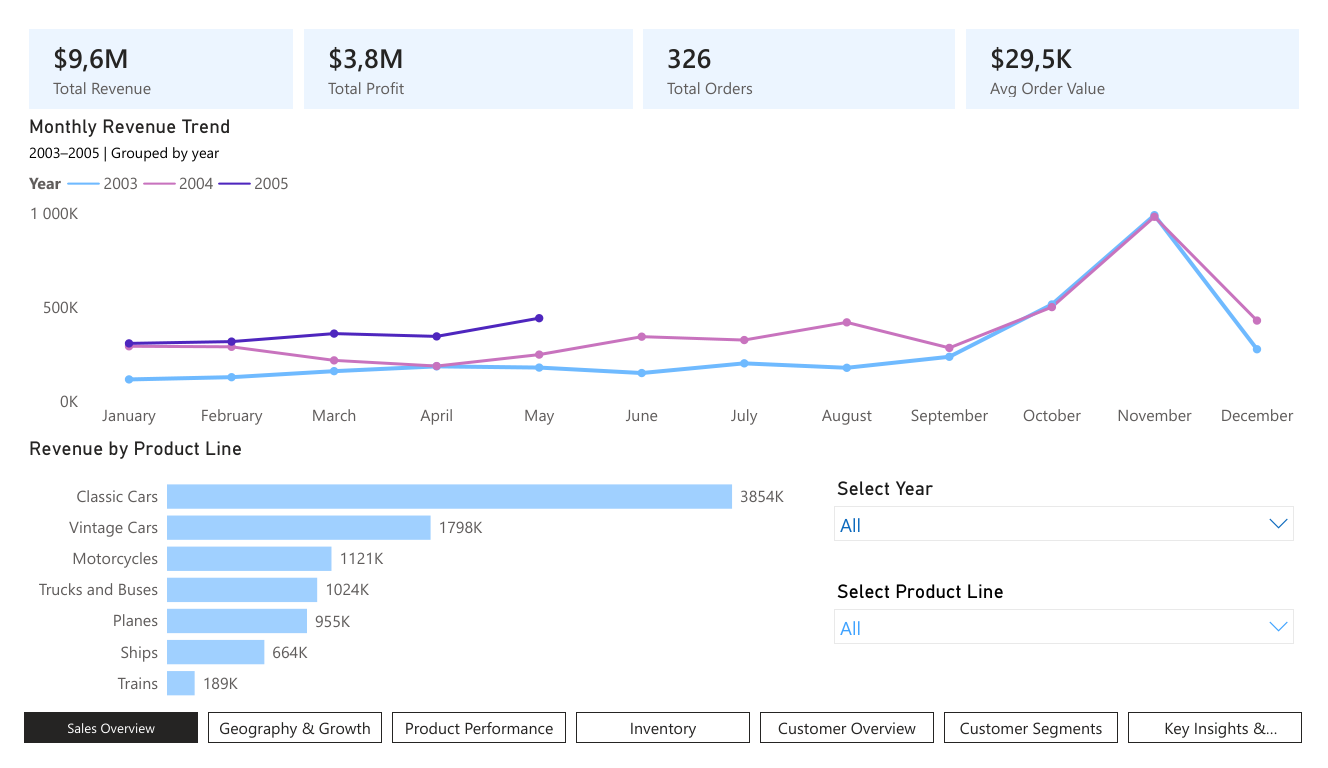

This screenshot's page, from the dashboard's own definition file:
{"tool":"powerbi","page":{"name":"Sales Overview","canvas":[1280,720],"ordinal":0},"visuals":[{"type":"cardVisual","fields":{"Data":["_Measures.Total Profit"]},"box":[274.7,0,339.7,90.7],"z":0},{"type":"cardVisual","fields":{"Data":["_Measures.Total Orders"]},"box":[614.4,0,322.1,90.7],"z":1000},{"type":"cardVisual","fields":{"Data":["_Measures.Avg Order Value"]},"box":[936.5,0,343.8,90.7],"z":2000},{"type":"cardVisual","fields":{"Data":["_Measures.Total Revenue"]},"box":[0,0,274.7,90.7],"z":3000},{"type":"barChart","title":"Revenue by Product Line","fields":{"Y":["_Measures.Total Revenue"],"Category":["products.productLine"]},"box":[0,412.8,764.6,276.1],"z":4000},{"type":"slicer","fields":{"Values":["products.productLine"]},"box":[799.8,550.8,480.4,79.8],"z":5000},{"type":"lineChart","title":"Monthly Revenue Trend","fields":{"Category":["DateTable.Month Name"],"Y":["_Measures.Total Revenue"],"Series":["DateTable.Year"]},"box":[0,90.7,1280.3,322.1],"z":6000},{"type":"slicer","fields":{"Values":["DateTable.Year"]},"box":[799.8,448,480.4,83.9],"z":7000},{"type":"pageNavigator","box":[0,688.4,1280.3,31.6],"z":8000}]}

Visuals, with their boxes in screenshot pixels (x1, y1, x2, y2), scaled from the page's 1280x720 canvas onto the 1328x768 screenshot:
cardVisual - _Measures.Total Profit: 285:0:637:97
cardVisual - _Measures.Total Orders: 637:0:972:97
cardVisual - _Measures.Avg Order Value: 972:0:1327:97
cardVisual - _Measures.Total Revenue: 0:0:285:97
"Revenue by Product Line" barChart: 0:440:793:735
slicer - products.productLine: 830:588:1327:673
"Monthly Revenue Trend" lineChart: 0:97:1327:440
slicer - DateTable.Year: 830:478:1327:567
pageNavigator: 0:734:1327:767
